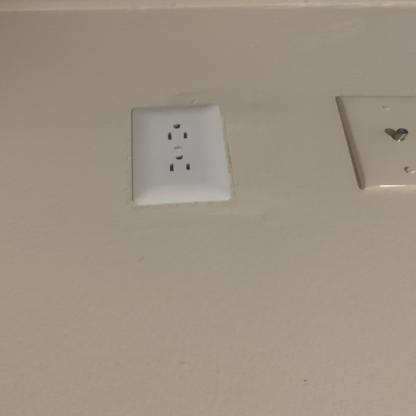OUTLET: (132, 106, 223, 206)
